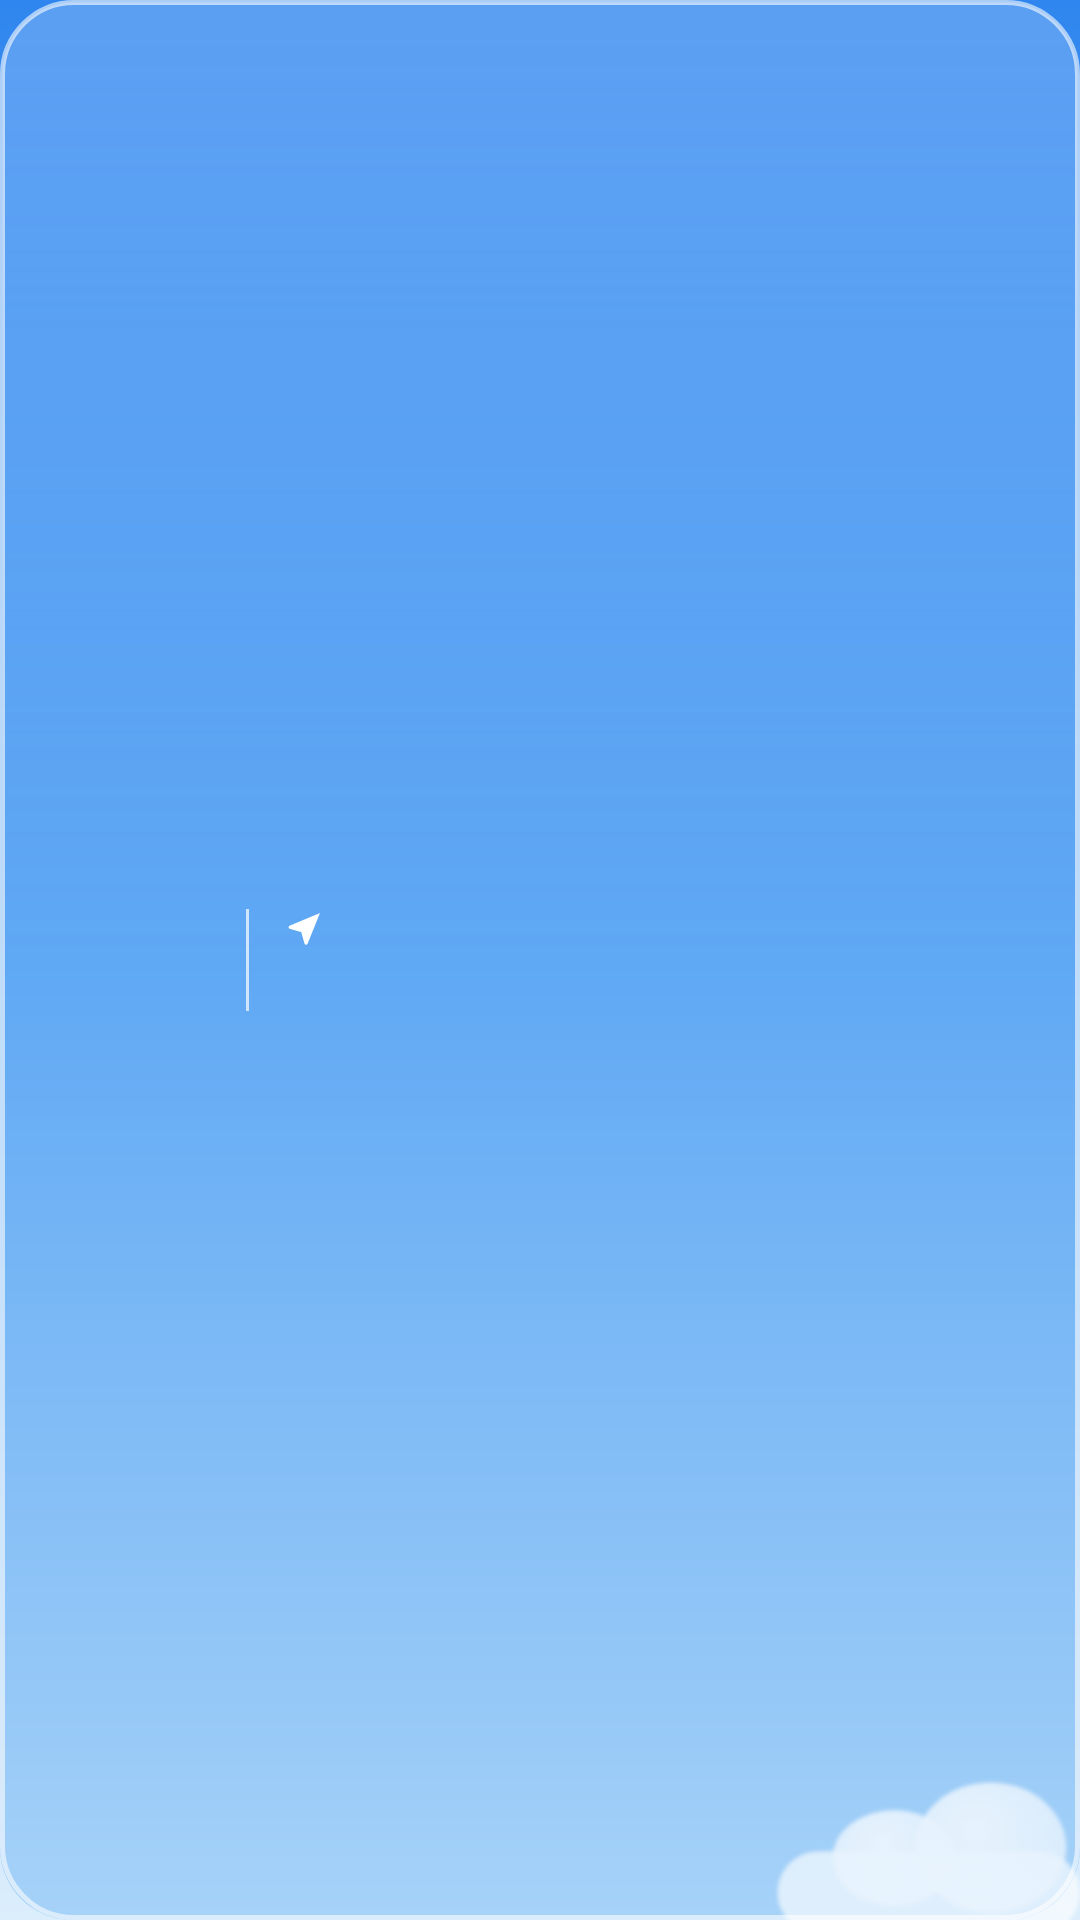

Locate icon controls on the screen. Image size 1080×1920, boxes as (x1, y1, x2, y2).
deco cloud: (750, 1755, 1080, 1920)
nav: (288, 913, 320, 945)
